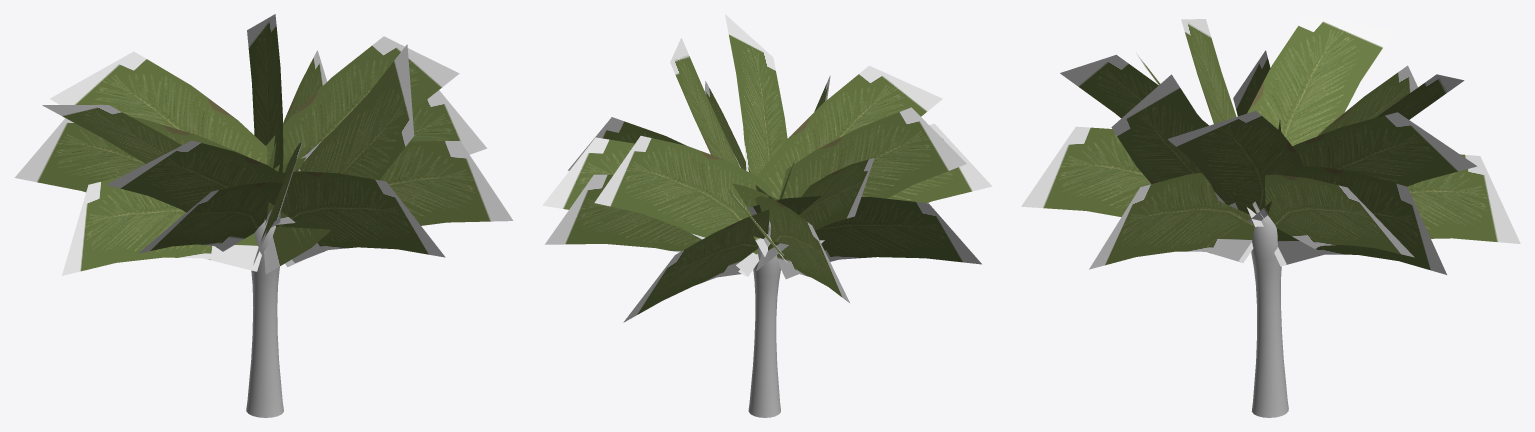
The model's file is palm_tree_5_LOD0.FBX.
3 renders of one model, left to right at view 1: azimuth 30°, elevation 25°; view 2: azimuth 150°, elevation 25°; view 3: azimuth 270°, elevation 25°, orthographic. The views are drawn at different scales.
Visible parts, largest first — view 1: Plane266, Cylinder006; view 2: Plane266, Cylinder006; view 3: Plane266, Cylinder006.
Part boxes in pixels (<box>): Plane266: <box>14,14,513,275</box>; Cylinder006: <box>246,220,283,417</box>; Plane266: <box>542,14,992,322</box>; Cylinder006: <box>748,234,780,417</box>; Plane266: <box>1021,14,1520,274</box>; Cylinder006: <box>1251,215,1288,417</box>.
Bounding box in the file's own units: 17.2 × 16.76 × 14.11.
